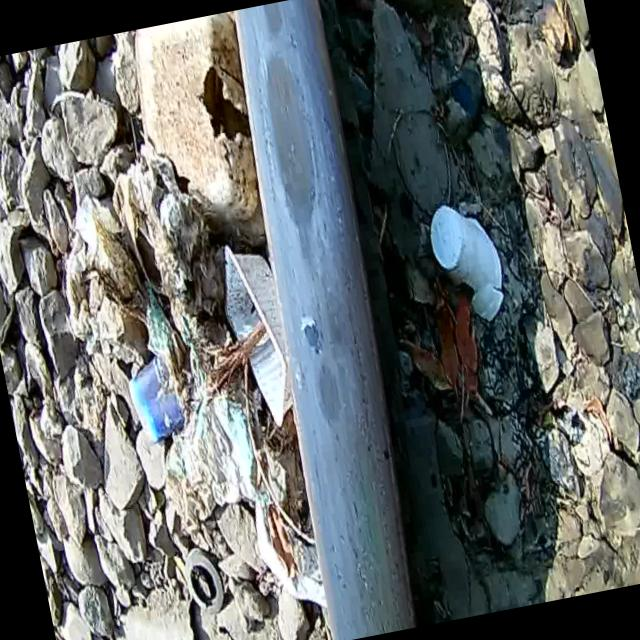Squats: (190, 0, 463, 640)
